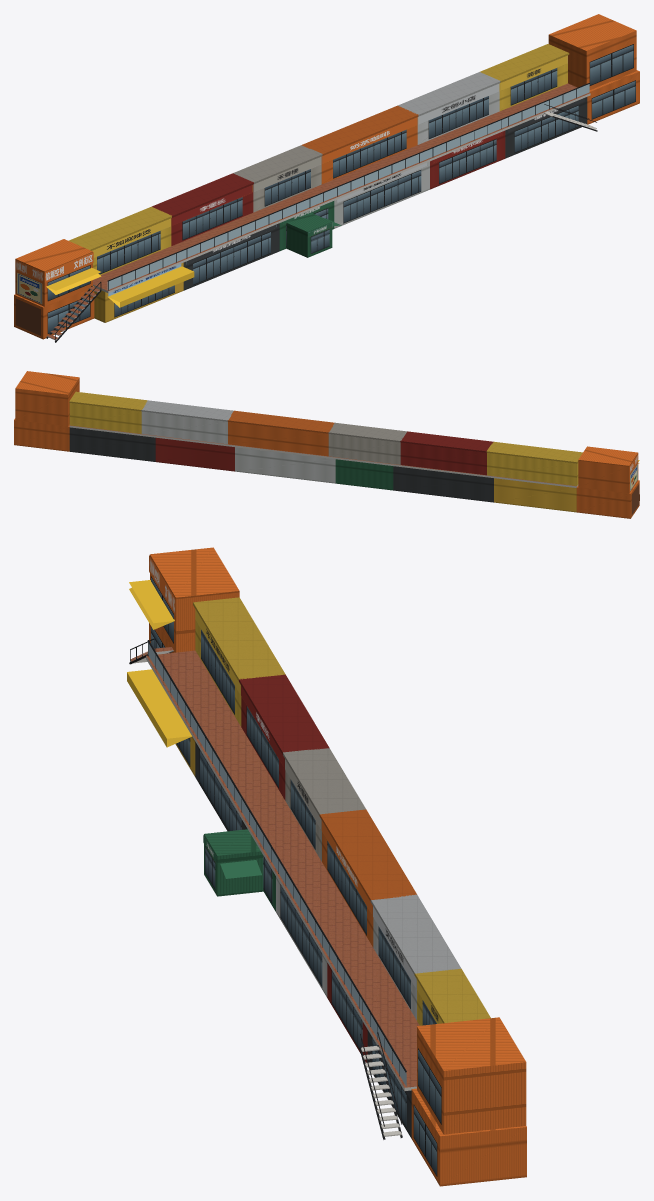
Rendered from dongyuan_jzx.glb.
The picture shows the model from 3 angles, top to bottom: view 1: azimuth 30°, elevation 25°; view 2: azimuth 150°, elevation 25°; view 3: azimuth 270°, elevation 25°; orthographic projection. The views are drawn at different scales.
Visible parts, largest first — view 1: 东苑集装箱美食街; view 2: 东苑集装箱美食街; view 3: 东苑集装箱美食街.
Part boxes in pixels (left/top/right/bottom): 东苑集装箱美食街: left=14, top=14, right=639, bottom=342; 东苑集装箱美食街: left=14, top=371, right=639, bottom=518; 东苑集装箱美食街: left=127, top=547, right=526, bottom=1186.
Bounding box in the file's own units: 84.57 × 8.45 × 26.76.
13 materials, 8 textured.
